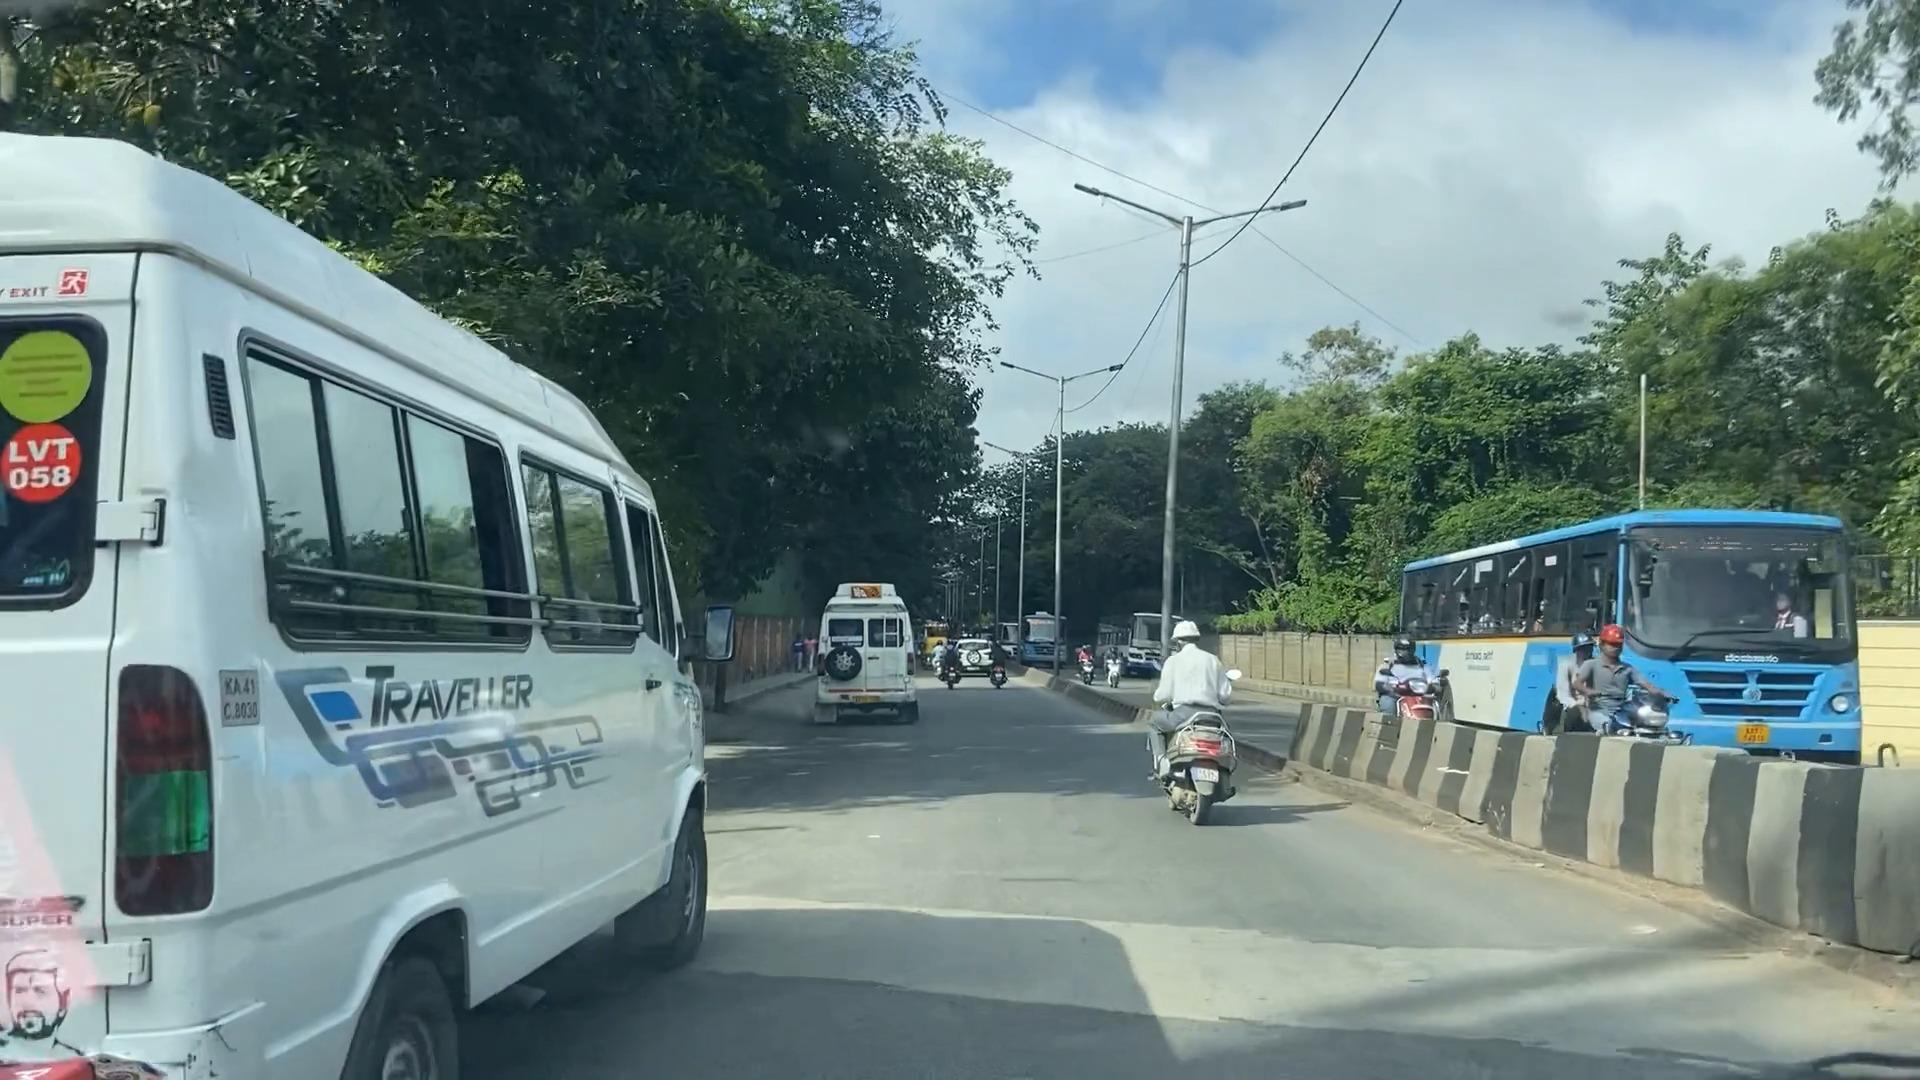HMV: (0, 117, 719, 1072), (828, 578, 935, 732)
LMV: (1146, 622, 1261, 836)
